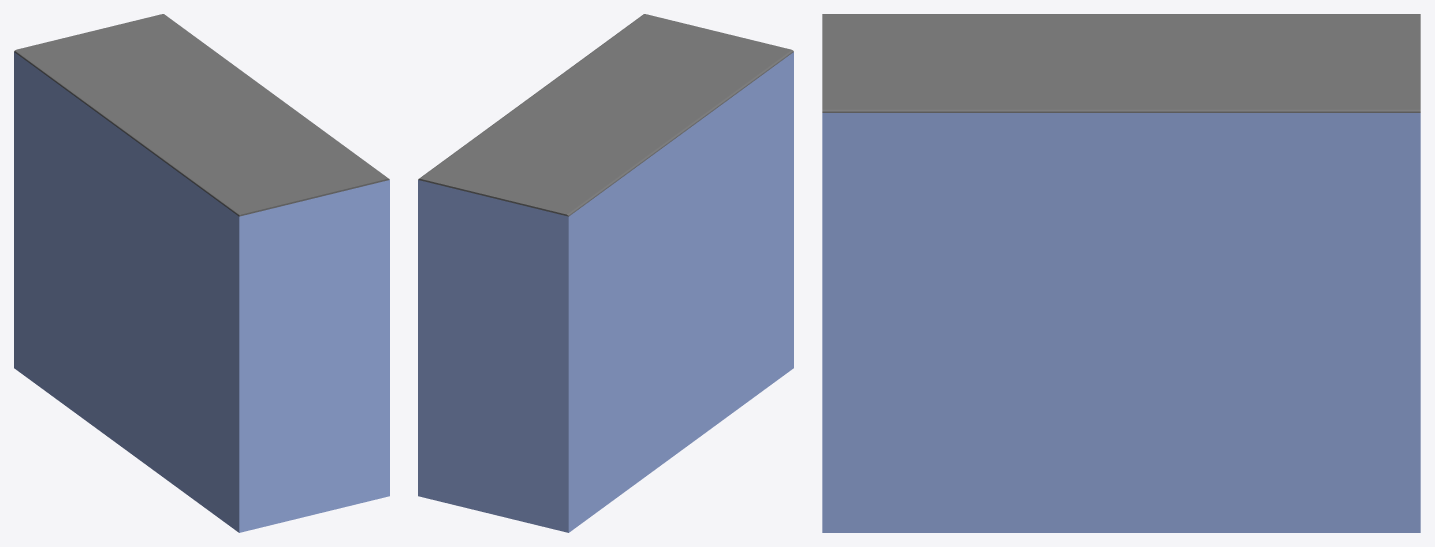
The model's file is block_long.fbx.
3 renders of one model, left to right at view 1: azimuth 30°, elevation 25°; view 2: azimuth 150°, elevation 25°; view 3: azimuth 270°, elevation 25°, orthographic. The views are drawn at different scales.
Visible parts, largest first — view 1: block_long; view 2: block_long; view 3: block_long.
Part boxes in pixels (x1=…): block_long: x1=14, y1=14, x2=389, y2=532; block_long: x1=418, y1=14, x2=793, y2=532; block_long: x1=822, y1=14, x2=1420, y2=532.
Bounding box in the file's own units: 60.13 × 121 × 156.
